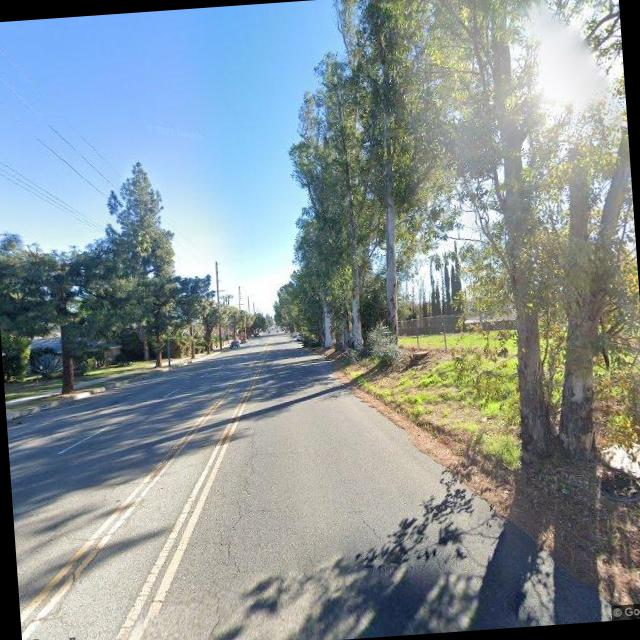pothole: (193, 415, 270, 640)
